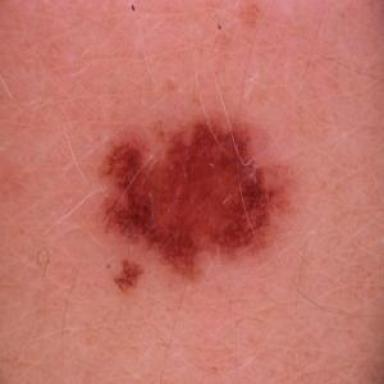Melanoma: (103, 113, 274, 280), (114, 259, 143, 291)
